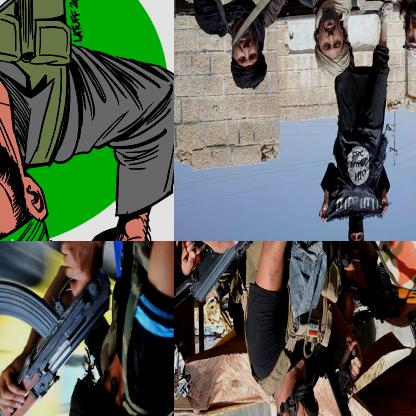knife: (233, 0, 363, 46)
rifle: (0, 241, 112, 415), (0, 0, 73, 171), (174, 241, 328, 314), (318, 341, 400, 415), (349, 263, 415, 323), (320, 241, 354, 282)
